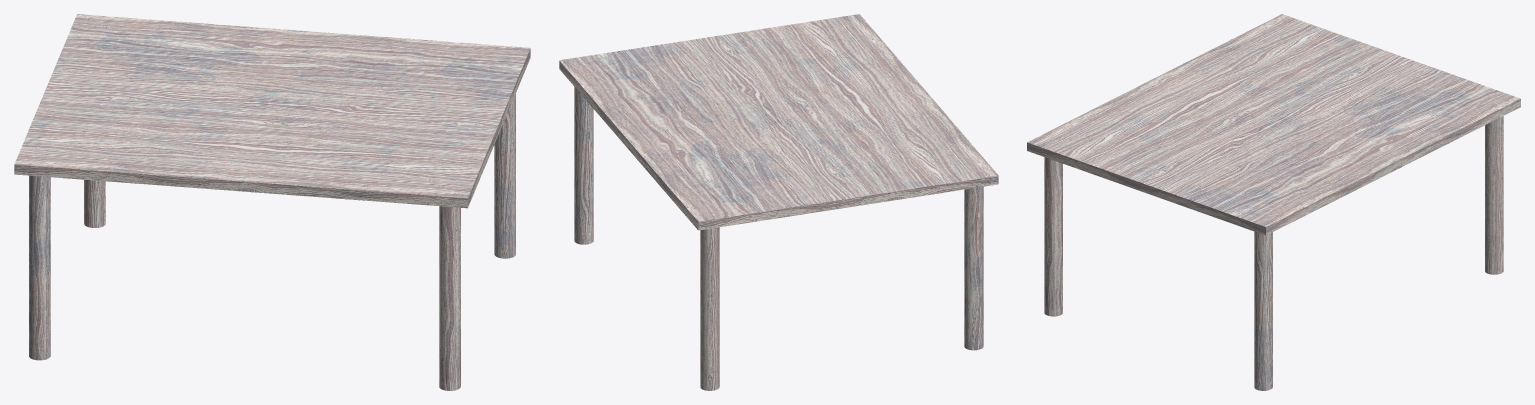
Rendered from Table.obj.
3 views of the same model, side by side, from view 1: azimuth 30°, elevation 25°; view 2: azimuth 150°, elevation 25°; view 3: azimuth 270°, elevation 25° (orthographic). The views are drawn at different scales.
Parts seen in each view (by area): view 1: Part2, Part4, Part5, Part1, Part3; view 2: Part2, Part5, Part3, Part1; view 3: Part2, Part1, Part4, Part3.
Boxes of the visible parts, bbox=[...] form: Part2: bbox=[14, 14, 530, 208]; Part4: bbox=[439, 206, 460, 390]; Part5: bbox=[29, 175, 50, 360]; Part1: bbox=[494, 93, 515, 258]; Part3: bbox=[84, 179, 105, 227]; Part2: bbox=[559, 14, 998, 230]; Part5: bbox=[964, 186, 983, 350]; Part3: bbox=[700, 227, 719, 390]; Part1: bbox=[574, 87, 593, 244]; Part2: bbox=[1027, 14, 1520, 235]; Part1: bbox=[1254, 231, 1272, 390]; Part4: bbox=[1044, 157, 1062, 316]; Part3: bbox=[1485, 116, 1503, 274].
Bounding box in the file's own units: 13.35 × 5 × 13.07.
Materials: 1 (1 with a texture image).
